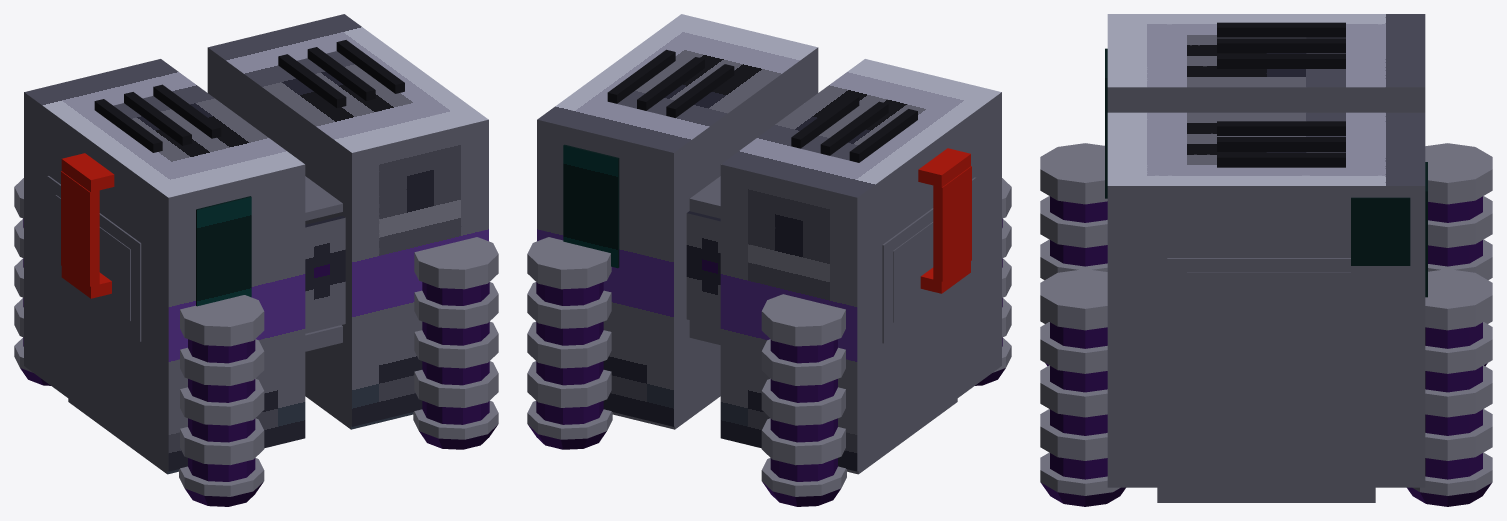
The model's file is pacman_generator.glb.
3 renders of one model, left to right at view 1: azimuth 30°, elevation 25°; view 2: azimuth 150°, elevation 25°; view 3: azimuth 270°, elevation 25°, orthographic. The views are drawn at different scales.
Visible parts, largest first — view 1: PACMAN_Corrected_Housing, Status_Left.004, Central_Access_Hatch.004; view 2: PACMAN_Corrected_Housing, Status_Rear.002; view 3: PACMAN_Corrected_Housing, Status_Right.004.
Boxes of the visible parts, <box> form: PACMAN_Corrected_Housing: <box>14,14,498,506</box>; Status_Left.004: <box>196,196,251,306</box>; Central_Access_Hatch.004: <box>305,216,345,333</box>; PACMAN_Corrected_Housing: <box>527,14,1011,506</box>; Status_Rear.002: <box>563,144,619,268</box>; PACMAN_Corrected_Housing: <box>1040,14,1492,506</box>; Status_Right.004: <box>1351,197,1410,265</box>.
Size of the model in its own units: 0.888 by 0.752 by 0.9107.
Materials: 1 (1 with a texture image).
